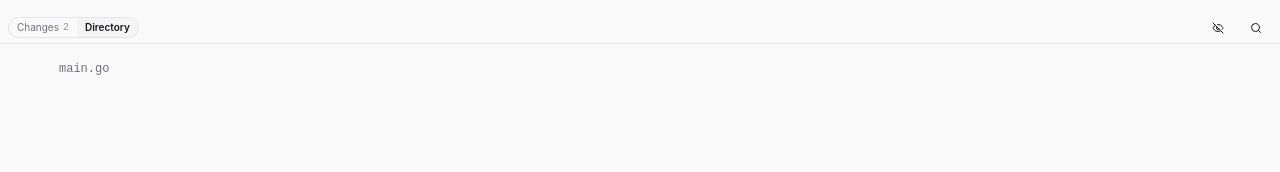
Test case: FilesPanel directory mode › re-requests with includeIgnored=true when 显示忽略项 is switched on, persists it, and dims ignored rows
The image size is (1280, 172).
Expected: the text "main.go" is shown, [59,60,109,76]
Click the button named "show ignored": (1218, 28) [1202,16,1234,40]
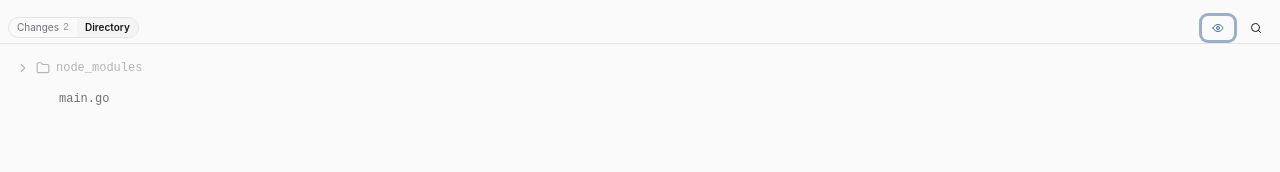
Expected: the button with aria-label "expand node_modules" is shown, [16,54,1238,82]
